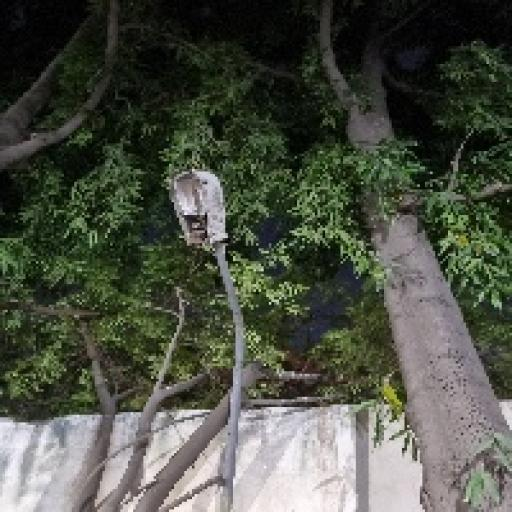Not Working: (156, 154, 246, 268)
